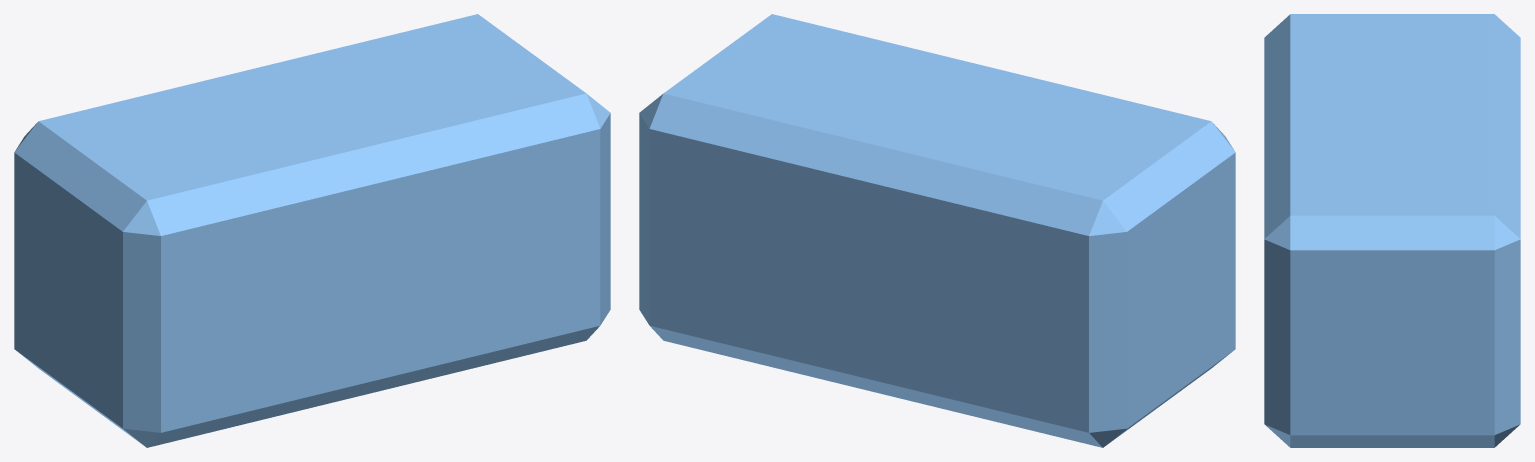
3 renders of one model, left to right at view 1: azimuth 30°, elevation 25°; view 2: azimuth 150°, elevation 25°; view 3: azimuth 270°, elevation 25°, orthographic. The views are drawn at different scales.
Parts seen in each view (by area): view 1: Mt 1; view 2: Mt 1; view 3: Mt 1.
Part boxes in pixels (box(x1,y1,x2,y2)): Mt 1: box(14, 14, 610, 447); Mt 1: box(639, 14, 1235, 447); Mt 1: box(1264, 14, 1520, 447).
Size of the model in its own units: 101 by 48.92 by 48.92.
